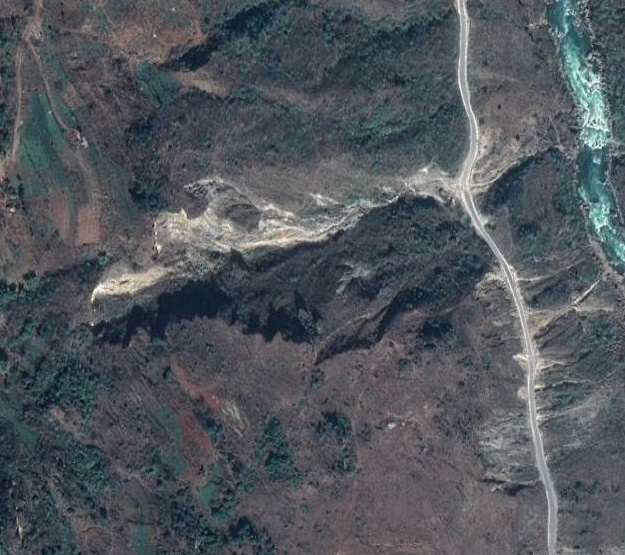slope: (80, 170, 411, 320), (471, 127, 522, 191)
